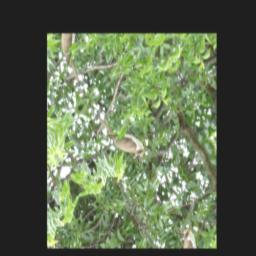Cuckoo: (93, 91, 151, 174)
